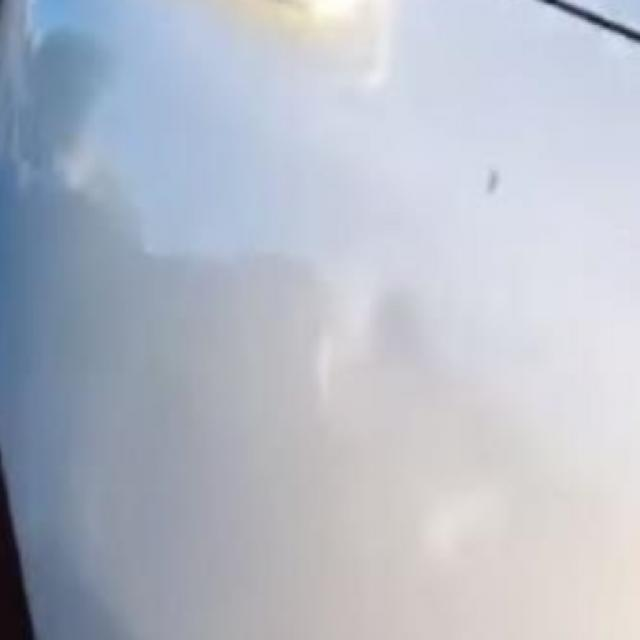dents: (300, 264, 472, 454)
